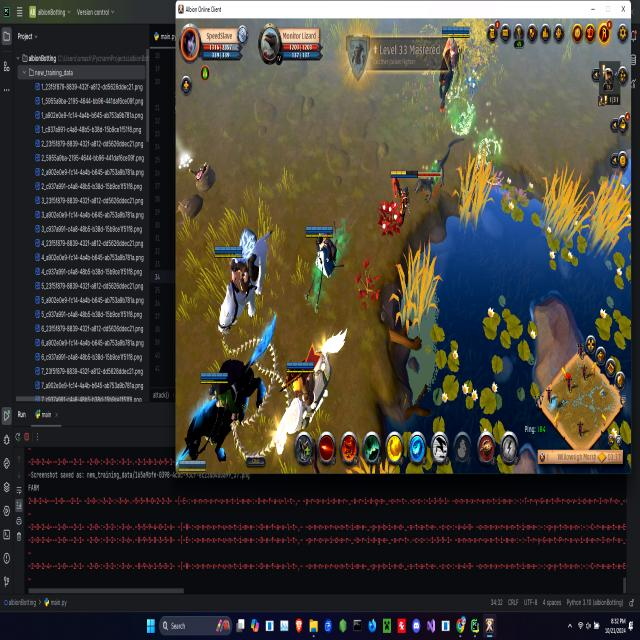hide: (376, 198, 404, 242), (463, 68, 483, 100)
red: (272, 321, 353, 458), (184, 351, 269, 458), (212, 228, 278, 329), (300, 211, 355, 317), (412, 134, 464, 207), (435, 24, 472, 120), (388, 167, 419, 228), (176, 458, 208, 474)
stone: (178, 147, 194, 175)
